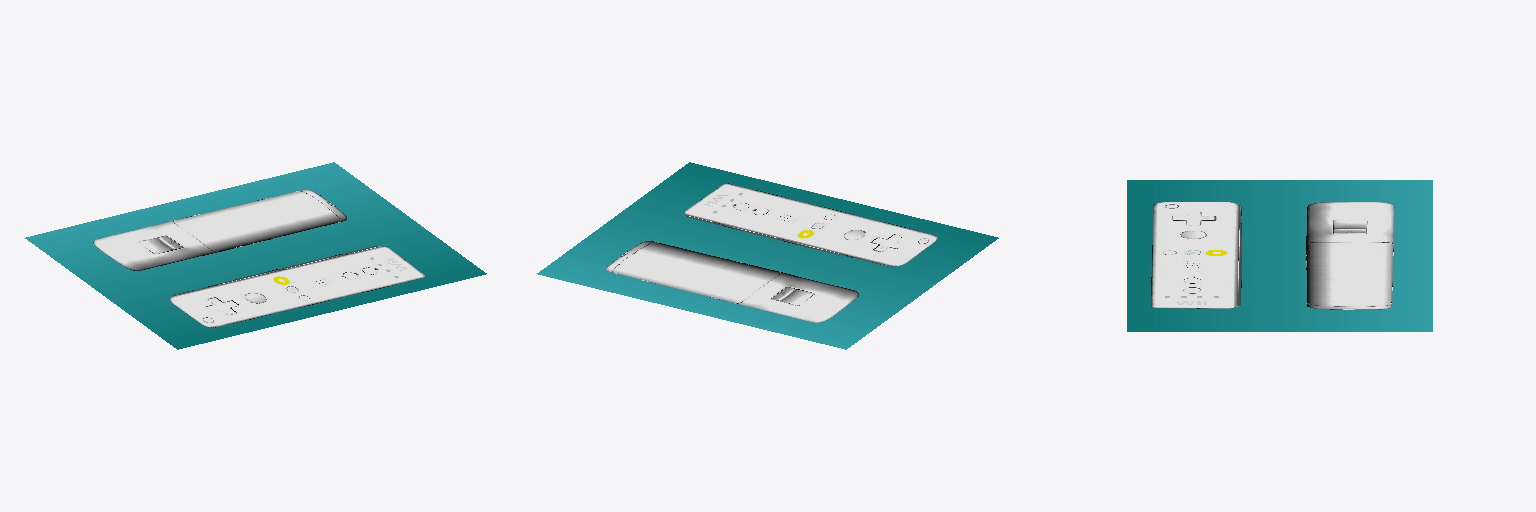
3 views of the same model, side by side, from view 1: azimuth 30°, elevation 25°; view 2: azimuth 150°, elevation 25°; view 3: azimuth 270°, elevation 25° (orthographic).
Visible parts, largest first — view 1: Plane002; view 2: Plane002; view 3: Plane002.
Boxes of the visible parts, x1,y1,x2,y2 form: Plane002: [25, 162, 486, 349]; Plane002: [537, 162, 998, 349]; Plane002: [1127, 180, 1432, 331].
Bounding box in the file's own units: 94.59 × 0 × 80.88.
Materials: 1 (1 with a texture image).